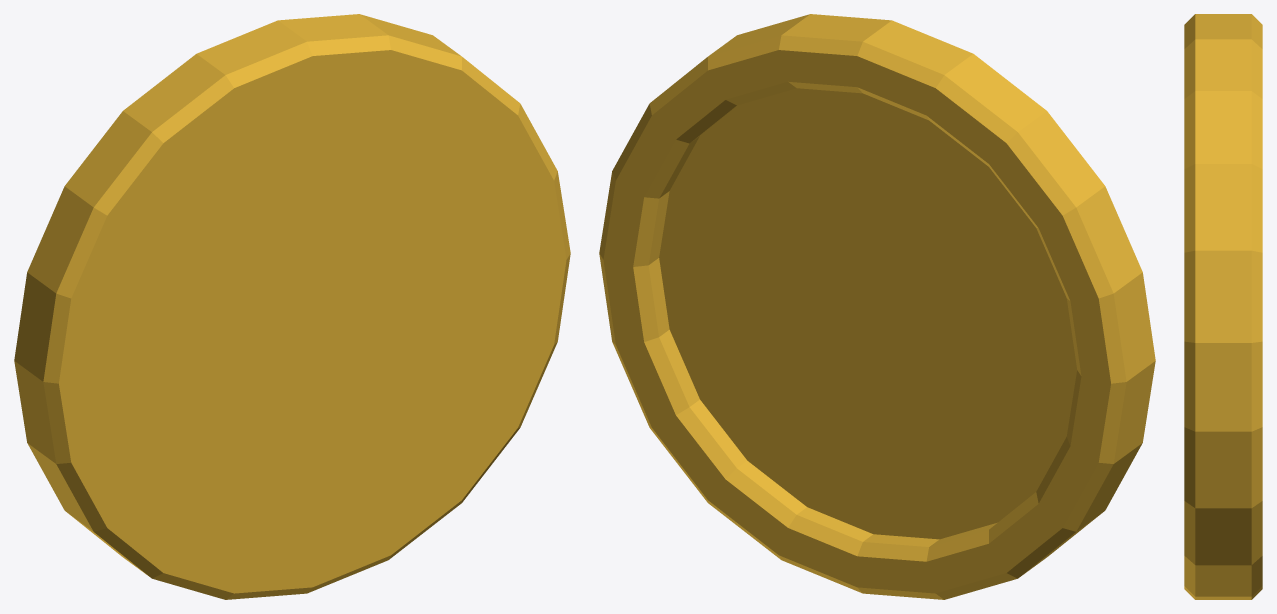
The model's file is BronzeCoin.fbx.
3 views of the same model, side by side, from view 1: azimuth 30°, elevation 25°; view 2: azimuth 150°, elevation 25°; view 3: azimuth 270°, elevation 25° (orthographic). The views are drawn at different scales.
Parts seen in each view (by area): view 1: Cylinder; view 2: Cylinder; view 3: Cylinder.
Boxes of the visible parts, bbox=[...] form: Cylinder: bbox=[14, 14, 570, 599]; Cylinder: bbox=[599, 14, 1155, 599]; Cylinder: bbox=[1184, 14, 1262, 599].
Bounding box in the file's own units: 200 × 200 × 26.52.
